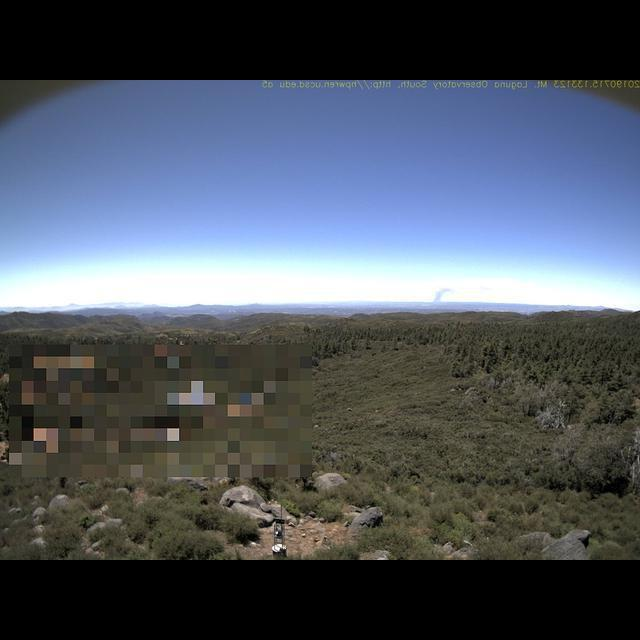Smoke: (429, 284, 456, 308)
